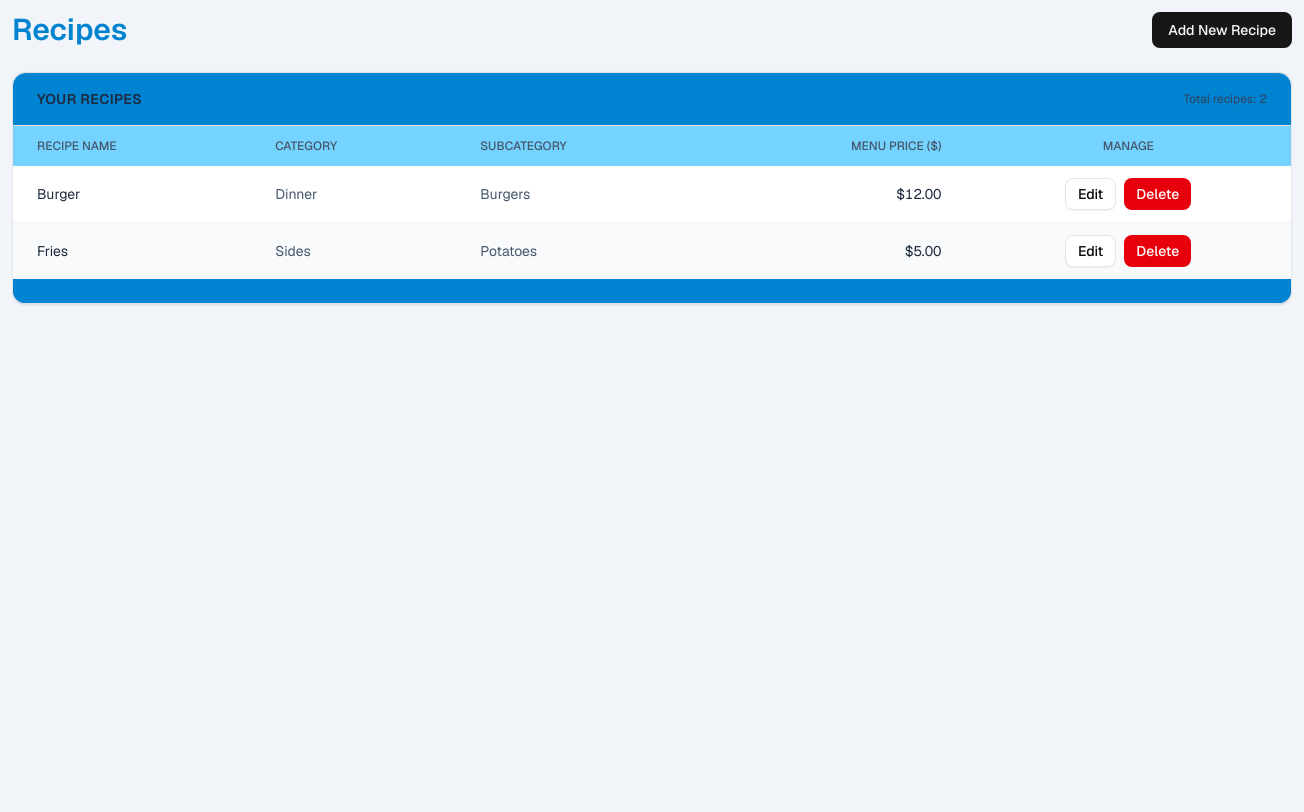
it: RecipesPage › loads recipe into form for editing
Expected: the text "Burger" is shown, [13,166,251,222]
Click the button "Edit" in the row of "Dinner": (1091, 194) [1065,178,1116,210]
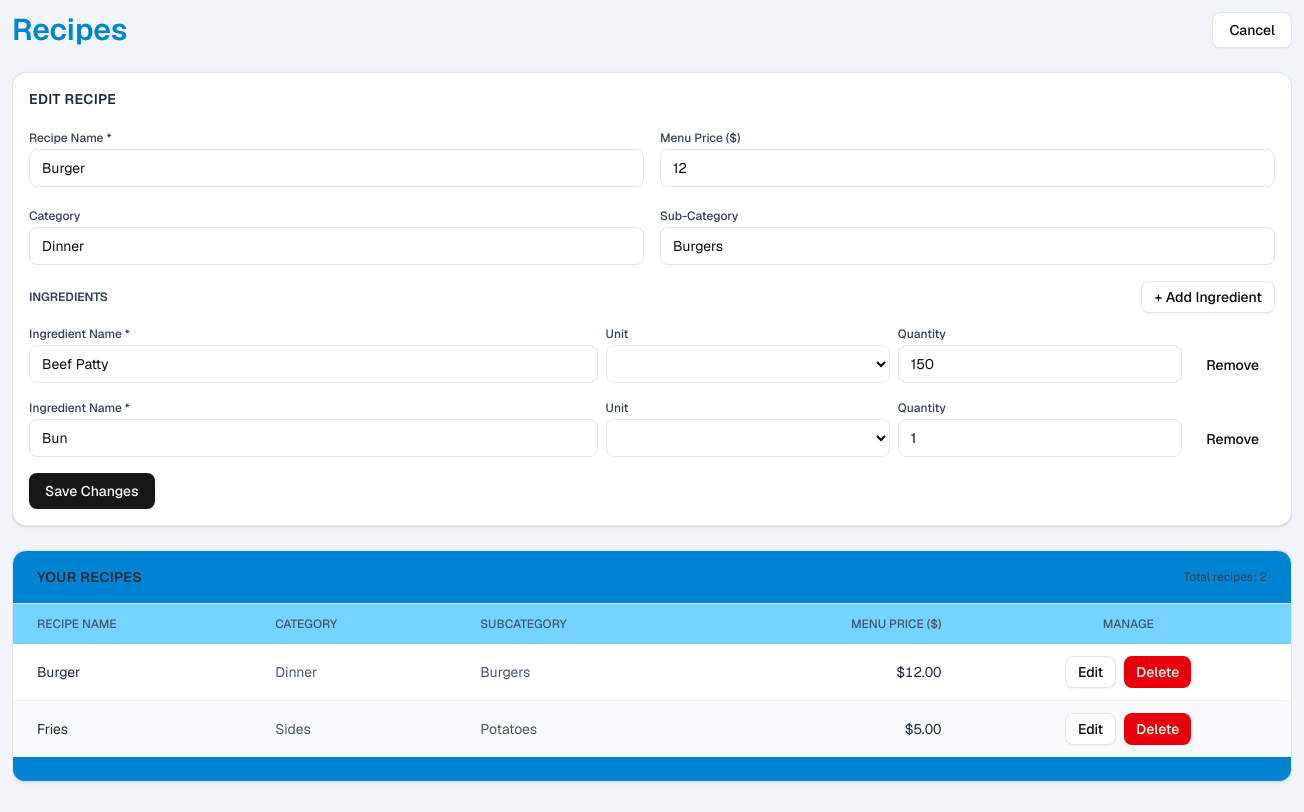
Expected: the heading "Edit Recipe" is shown, [29,90,116,108]
Expected: the field showing "Burger" below "Recipe Name *" is shown, [29,149,644,187]
Expected: the 1st number field showing "12" is shown, [660,149,1275,187]
